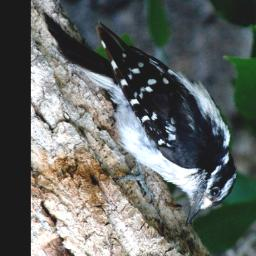Woodpecker: (39, 12, 241, 225)
